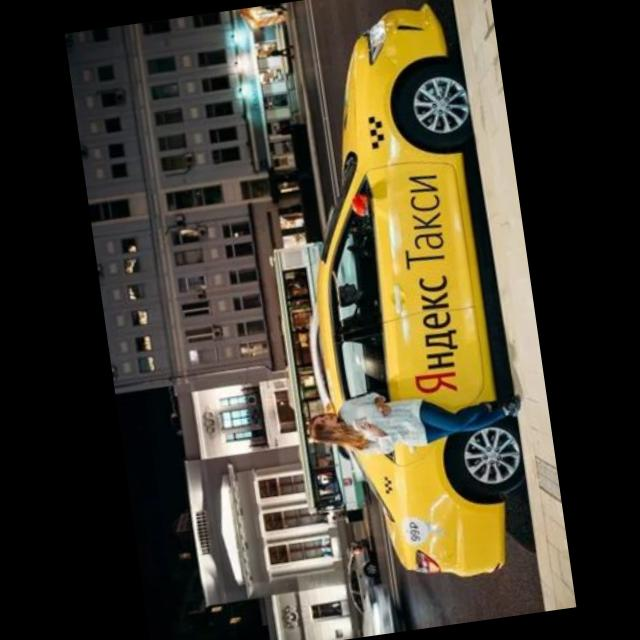taxi: (266, 1, 538, 595)
